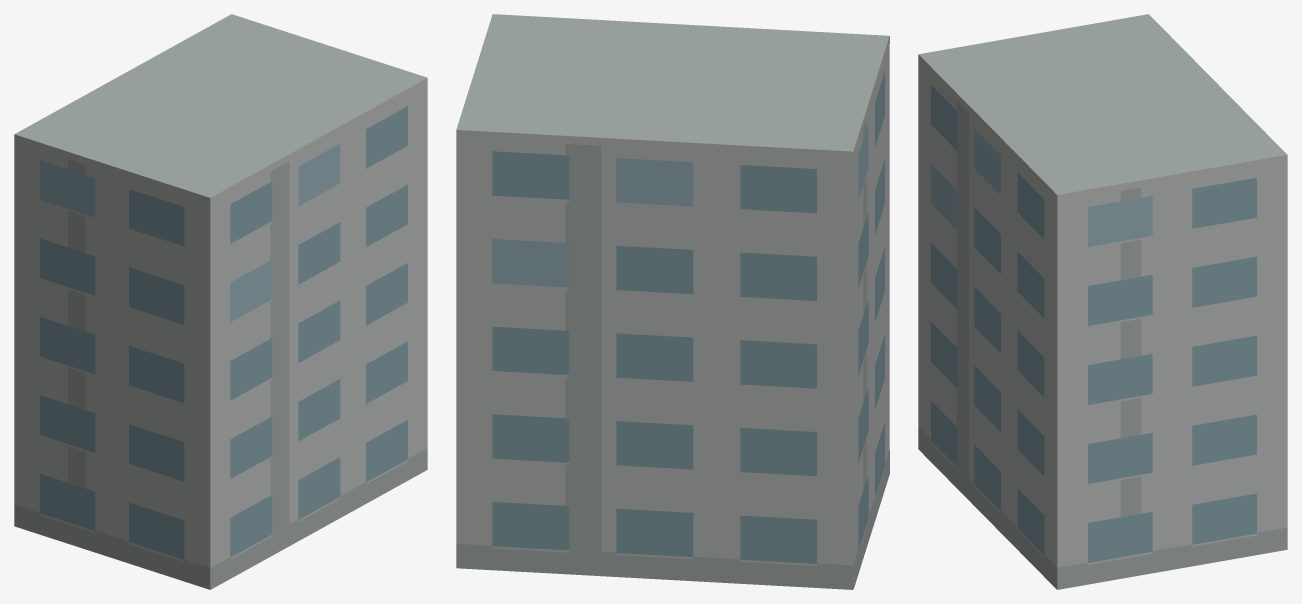
File: survey-upis-32689343.glb
The picture shows the model from 3 angles, left to right: view 1: azimuth 30°, elevation 25°; view 2: azimuth 150°, elevation 25°; view 3: azimuth 270°, elevation 25°; orthographic projection. The views are drawn at different scales.
Parts seen in each view (by area): view 1: survey-upis-32689343.tmp; view 2: survey-upis-32689343.tmp; view 3: survey-upis-32689343.tmp.
Part boxes in pixels (x1=…): survey-upis-32689343.tmp: x1=14, y1=14, x2=427, y2=589; survey-upis-32689343.tmp: x1=456, y1=14, x2=889, y2=589; survey-upis-32689343.tmp: x1=918, y1=14, x2=1287, y2=589.
Size of the model in its own units: 13.08 by 13.3 by 11.27.
